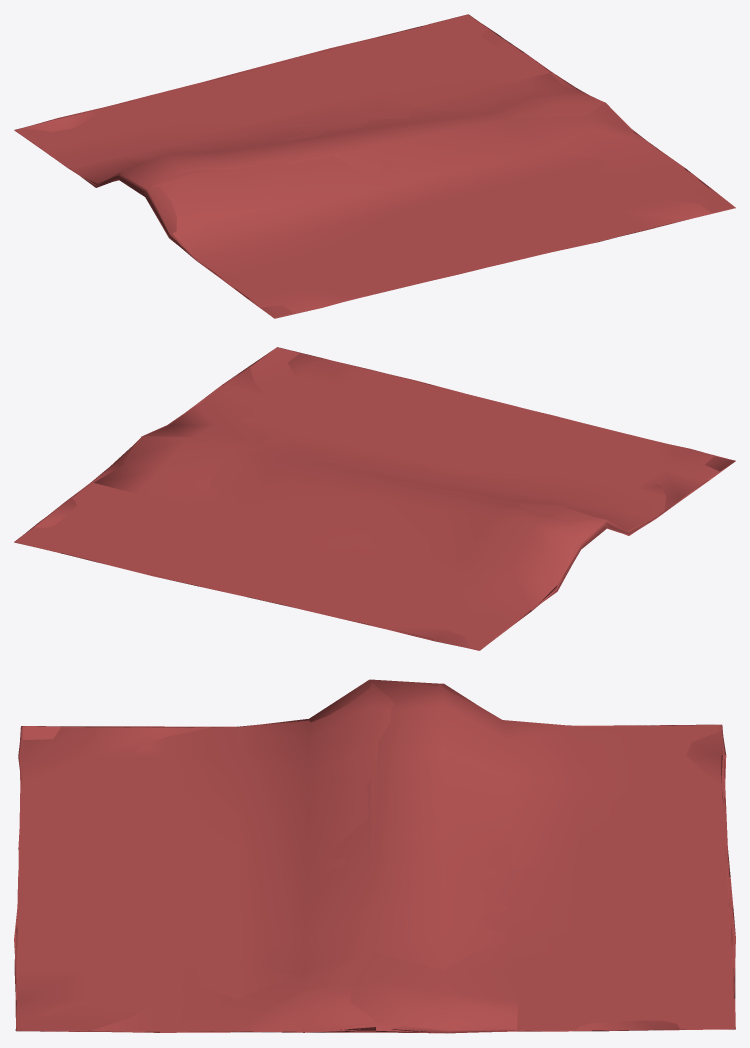
Rendered from carpet.fbx.
3 views of the same model, one above another, from view 1: azimuth 30°, elevation 25°; view 2: azimuth 150°, elevation 25°; view 3: azimuth 270°, elevation 25° (orthographic). The views are drawn at different scales.
Parts seen in each view (by area): view 1: Cube; view 2: Cube; view 3: Cube.
Boxes of the visible parts, bbox=[...] form: Cube: bbox=[14, 14, 735, 318]; Cube: bbox=[14, 347, 735, 650]; Cube: bbox=[14, 679, 735, 1033].
Size of the model in its own units: 203 by 16.07 by 200.
